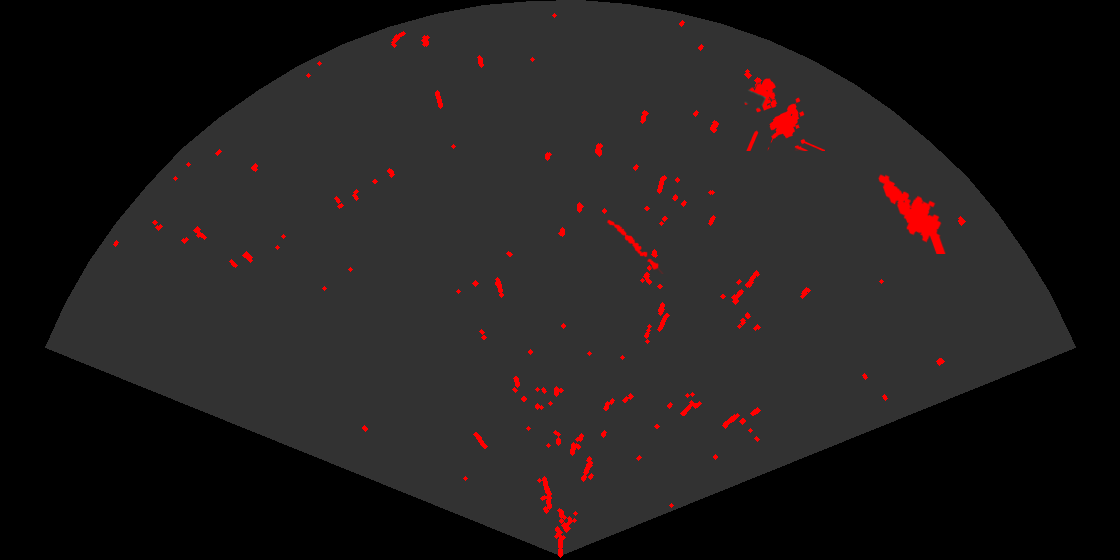cage: (743, 77, 825, 151)
chain: (605, 218, 665, 274)
frogman: (876, 173, 947, 254)
